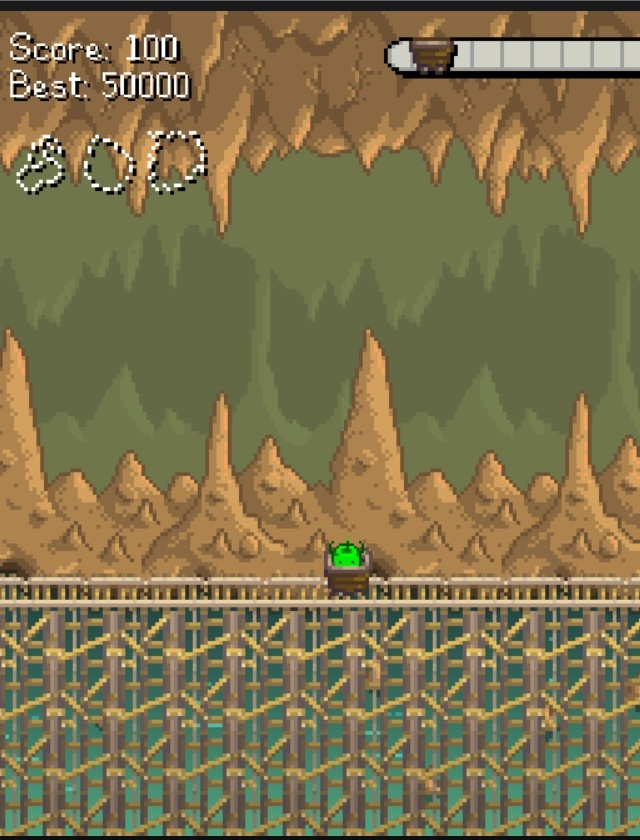minecart: (325, 543, 370, 591)
score: (122, 28, 185, 68)
tracks: (0, 567, 311, 610)
